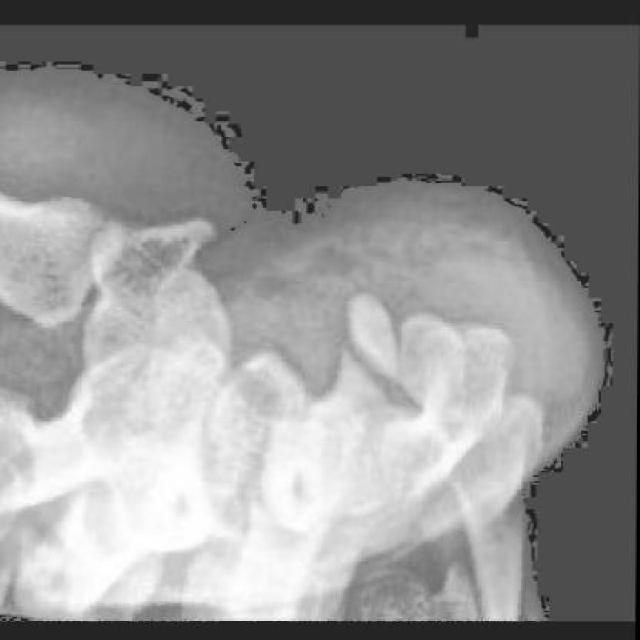Fracture: (328, 330, 406, 396)
